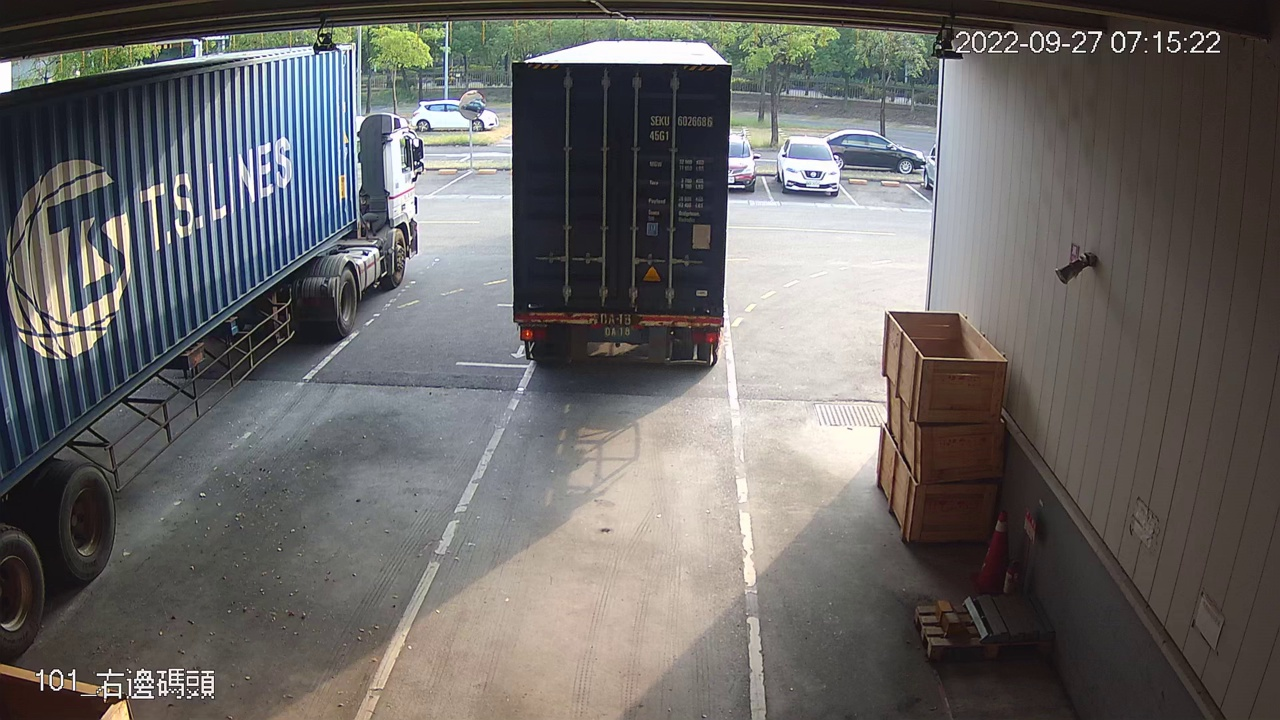container: (644, 108, 717, 147)
